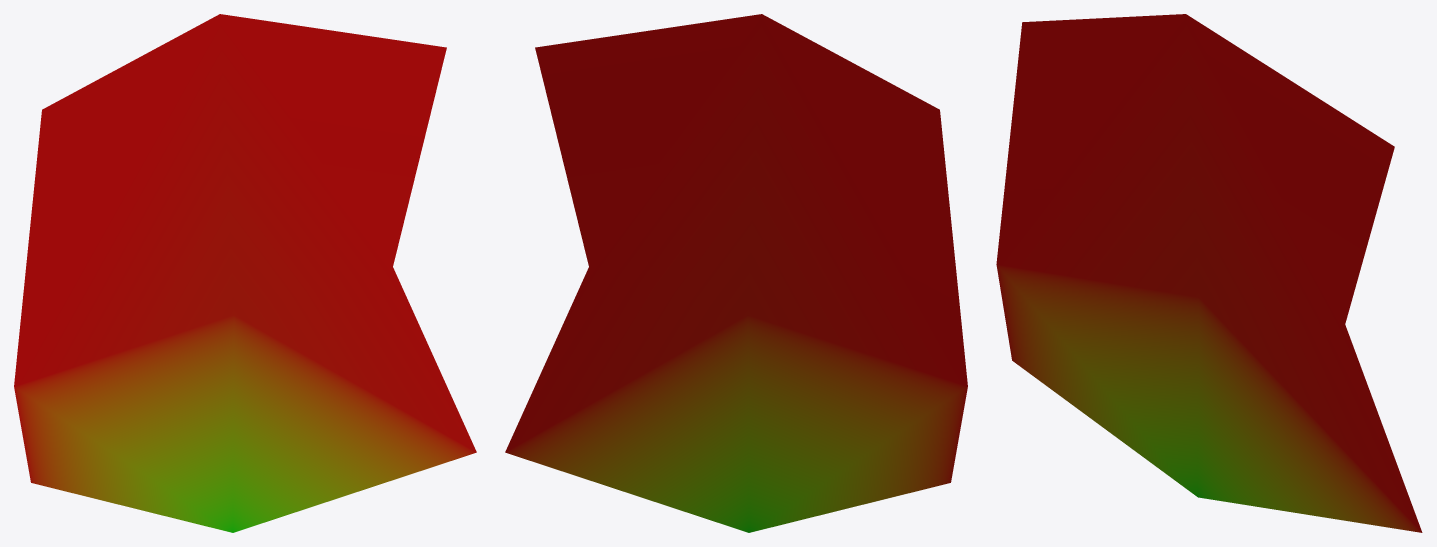
File: Field Poppy_LOD4_Var2_vmcobd0ja.fbx
The picture shows the model from 3 angles, left to right: view 1: azimuth 30°, elevation 25°; view 2: azimuth 150°, elevation 25°; view 3: azimuth 330°, elevation 25°; orthographic projection. The views are drawn at different scales.
Visible parts, largest first — view 1: _fytn_Var2_LOD4; view 2: _fytn_Var2_LOD4; view 3: _fytn_Var2_LOD4.
Part boxes in pixels (x1,y1,x2,y2): _fytn_Var2_LOD4: (14, 14, 476, 532); _fytn_Var2_LOD4: (505, 14, 967, 532); _fytn_Var2_LOD4: (996, 14, 1422, 532).
Bounding box in the file's own units: 45.48 × 49.02 × 5.84e-06.
